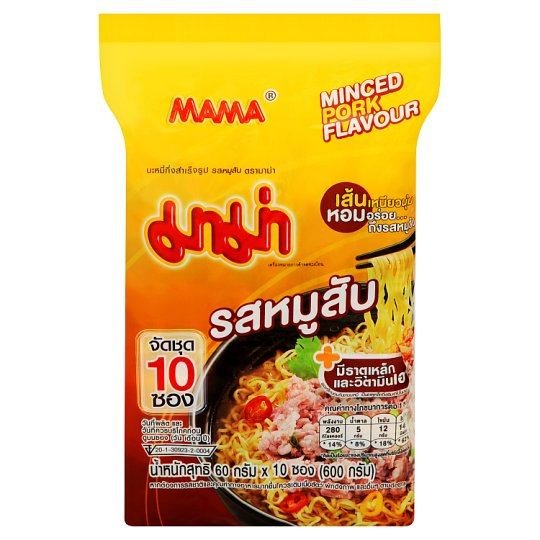Snack: (93, 7, 446, 533)
